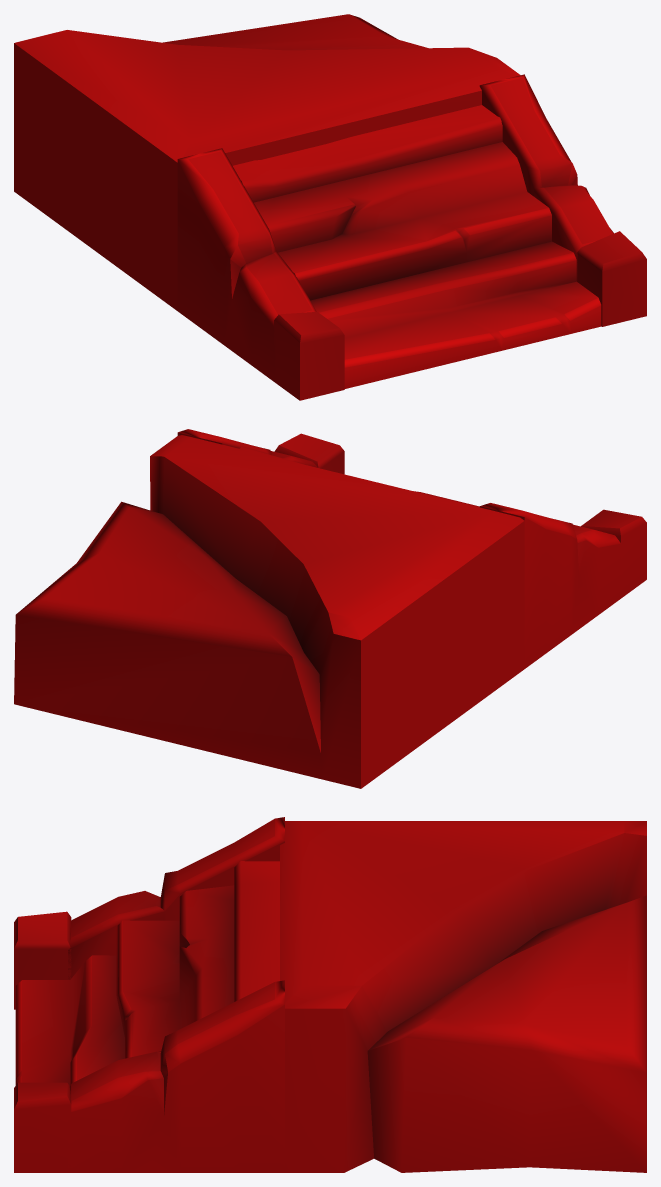
File: buildings-ruins-ancientruins_v10.fbx
The picture shows the model from 3 angles, top to bottom: view 1: azimuth 30°, elevation 25°; view 2: azimuth 150°, elevation 25°; view 3: azimuth 270°, elevation 25°; orthographic projection. The views are drawn at different scales.
Parts seen in each view (by area): view 1: AncientRuins_v10; view 2: AncientRuins_v10; view 3: AncientRuins_v10.
Part boxes in pixels (x1=…): AncientRuins_v10: x1=14, y1=14, x2=646, y2=400; AncientRuins_v10: x1=14, y1=429, x2=646, y2=788; AncientRuins_v10: x1=14, y1=817, x2=646, y2=1172.
Bounding box in the file's own units: 4.71 × 2.05 × 6.7.
